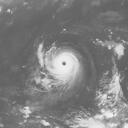cyclone: (37, 43, 84, 90)
